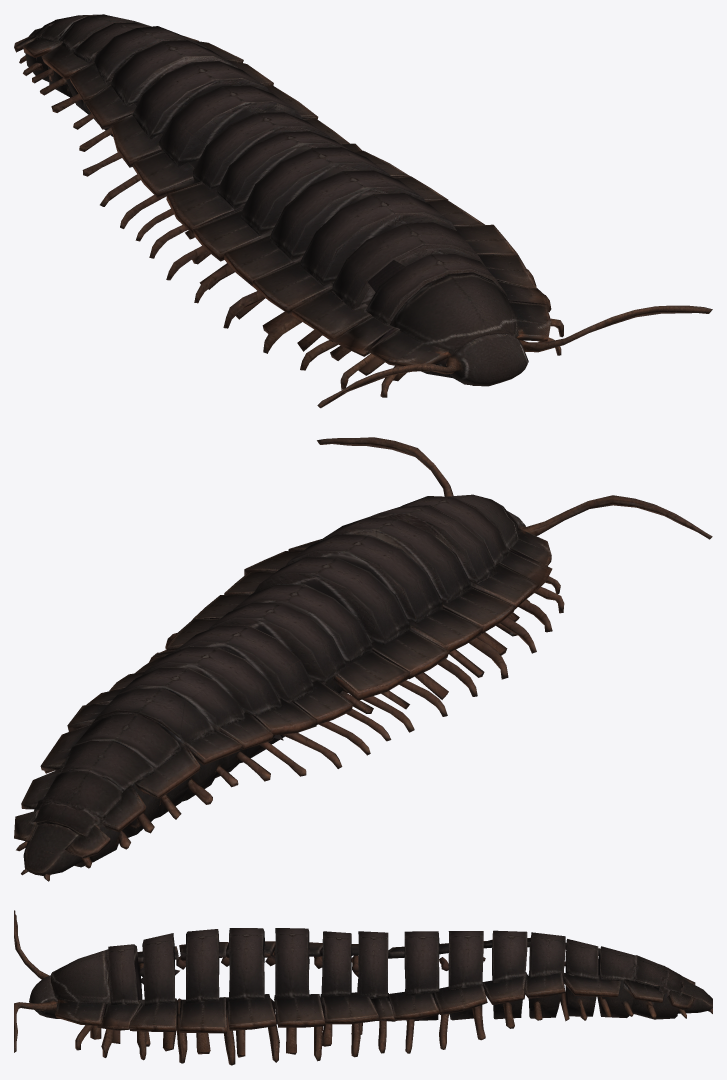
The model's file is CRT-008.glb.
3 renders of one model, top to bottom at view 1: azimuth 30°, elevation 25°; view 2: azimuth 150°, elevation 25°; view 3: azimuth 270°, elevation 25°, orthographic. The views are drawn at different scales.
Visible parts, largest first — view 1: mesh_node; view 2: mesh_node; view 3: mesh_node.
Boxes of the visible parts, bbox=[...] form: mesh_node: bbox=[14, 14, 712, 408]; mesh_node: bbox=[14, 437, 712, 881]; mesh_node: bbox=[14, 910, 712, 1065].
Size of the model in its own units: 0.4775 by 0.1372 by 1.
1 material, 1 textured.
